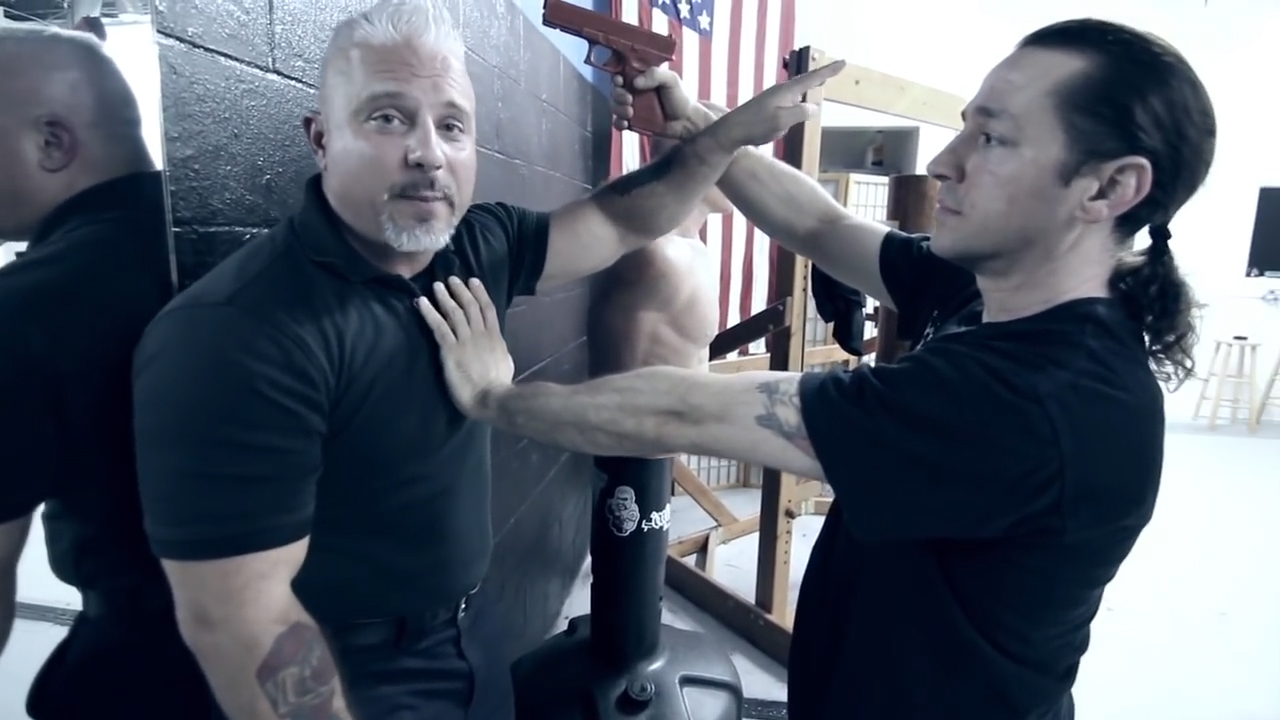pistol: (539, 1, 679, 139)
